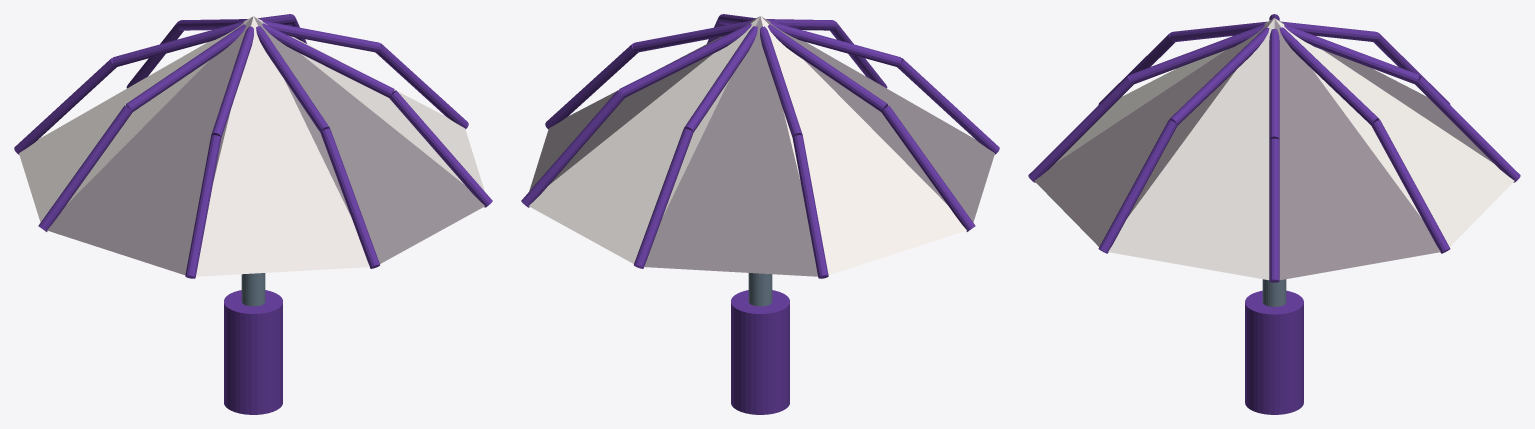
File: foldumbrella.glb
3 renders of one model, left to right at view 1: azimuth 30°, elevation 25°; view 2: azimuth 150°, elevation 25°; view 3: azimuth 270°, elevation 25°, orthographic.
Visible parts, largest first — view 1: panel2, panel3, panel1, panel4, handle, panel0, rib21, rib41, rib31, rib11, rib10, rib40 (+9 smaller); view 2: panel5, panel4, panel6, panel3, handle, panel7, rib61, rib41, rib51, rib71, rib70, rib40 (+9 smaller); view 3: panel0, panel7, panel1, panel6, handle, panel2, panel5, rib11, rib71, rib01, rib20, rib60 (+10 smaller).
Boxes of the visible parts, x1,y1,x2,y2 form: panel2: [196, 16, 369, 276]; panel3: [47, 16, 253, 274]; panel1: [254, 17, 484, 263]; panel4: [19, 16, 252, 222]; handle: [224, 290, 282, 414]; panel0: [254, 16, 484, 190]; rib21: [320, 128, 379, 268]; rib41: [38, 105, 132, 231]; rib31: [185, 135, 221, 278]; rib11: [389, 90, 492, 207]; rib10: [262, 23, 394, 97]; rib40: [126, 24, 246, 111]; panel5: [644, 16, 817, 276]; panel4: [760, 16, 966, 274]; panel6: [529, 17, 759, 263]; panel3: [761, 16, 994, 222]; handle: [731, 290, 789, 414]; panel7: [529, 16, 759, 190]; rib61: [634, 128, 693, 268]; rib41: [881, 105, 975, 231]; rib51: [792, 135, 828, 278]; rib71: [521, 90, 624, 207]; rib70: [619, 23, 751, 97]; rib40: [767, 24, 887, 111]; panel0: [1108, 18, 1274, 280]; panel7: [1274, 19, 1440, 280]; panel1: [1034, 18, 1273, 246]; panel6: [1275, 18, 1514, 246]; handle: [1245, 290, 1303, 414]; panel2: [1055, 18, 1273, 163]; panel5: [1275, 18, 1493, 163]; rib11: [1098, 120, 1177, 253]; rib71: [1371, 120, 1450, 253]; rib01: [1269, 138, 1279, 282]; rib20: [1129, 24, 1264, 84]; rib60: [1284, 24, 1419, 84].
Bounding box in the file's own units: 1.67 × 1.44 × 1.67.
